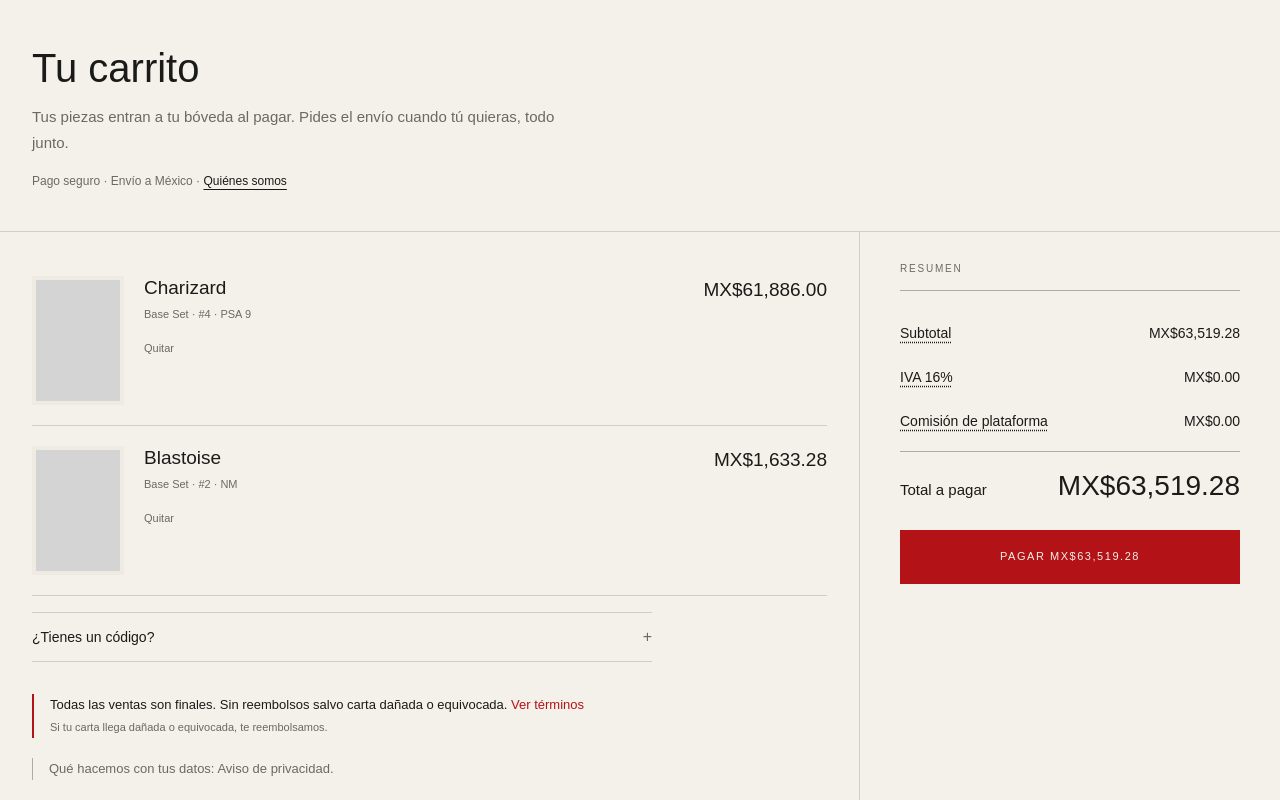
Test: checkout · poda amable de piezas muertas (v1.21.3-quote-prune) › con cuenta: session rechaza ITEM_UNAVAILABLE ⇒ se re-cotiza, banner y poda (sin mensaje junto al botón)
Check: the text "Blastoise" is shown, box [144,447,221,468]
Click the button "Pagar MX$63,519.28" at (1070, 556), box [900,530,1240,584]
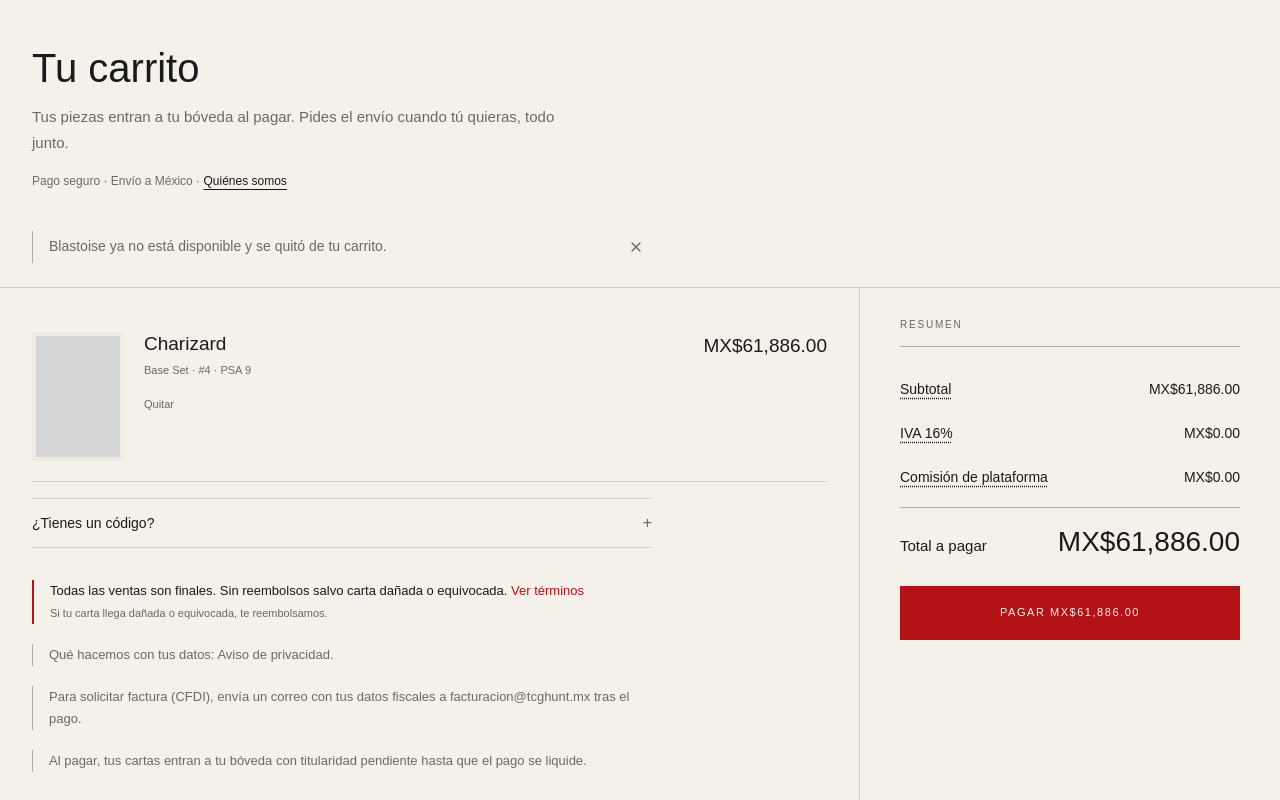
Check: the button "Pagar MX$61,886.00" is shown, box [900,586,1240,640]
Check: the element with test id "unavailable-notice" reads "Blastoise ya no está disponible y se quitó de tu carrito.", box [49,238,387,254]
